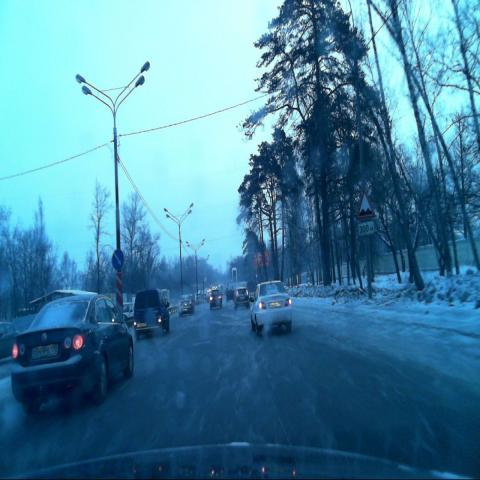8_1_1: (358, 222, 374, 236)
